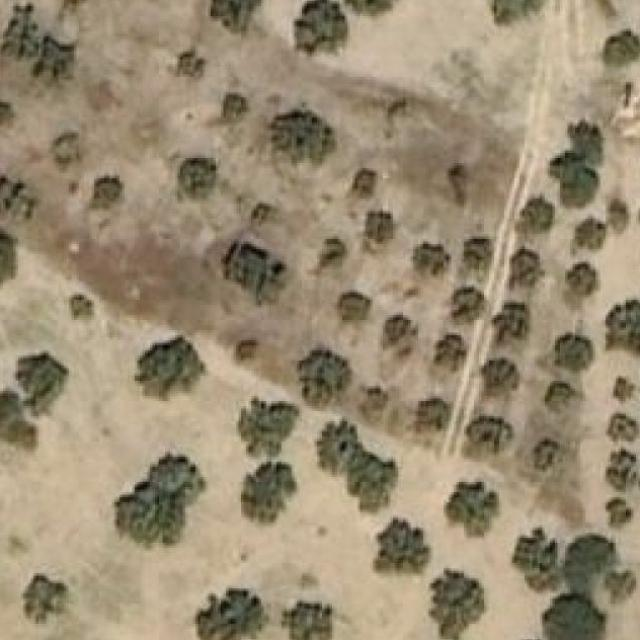Tree: (116, 455, 202, 546), (314, 422, 398, 512), (0, 4, 76, 80), (220, 232, 290, 306), (134, 335, 208, 401), (184, 588, 268, 640), (235, 396, 299, 460), (428, 570, 484, 640), (272, 109, 338, 168), (13, 350, 69, 414), (296, 345, 349, 409), (192, 0, 280, 38), (240, 462, 294, 522), (446, 479, 499, 538), (294, 0, 347, 57), (517, 532, 565, 594), (547, 153, 602, 206), (375, 518, 428, 573), (23, 573, 72, 624), (549, 593, 602, 640), (567, 531, 611, 586), (282, 595, 332, 640), (0, 388, 34, 449), (604, 299, 640, 355), (552, 330, 595, 376), (464, 414, 512, 455), (479, 358, 525, 399), (0, 175, 37, 223), (491, 303, 530, 348), (177, 158, 216, 196), (509, 249, 545, 290), (605, 450, 638, 493), (89, 173, 125, 212), (433, 335, 469, 374), (312, 237, 347, 277), (451, 287, 486, 325), (564, 259, 598, 298), (603, 29, 640, 64), (415, 396, 449, 434), (413, 242, 452, 275), (51, 131, 81, 171), (167, 50, 206, 80), (492, 0, 540, 24), (521, 198, 552, 234), (352, 166, 383, 202), (577, 214, 606, 252), (364, 209, 395, 244), (602, 497, 633, 531), (336, 293, 370, 323), (606, 414, 640, 444), (607, 195, 631, 234), (383, 313, 413, 343), (0, 232, 16, 287), (223, 92, 251, 123), (532, 439, 557, 473), (464, 239, 492, 269), (547, 381, 572, 414), (233, 338, 263, 365), (71, 295, 94, 323), (613, 376, 633, 404), (0, 102, 13, 138)
